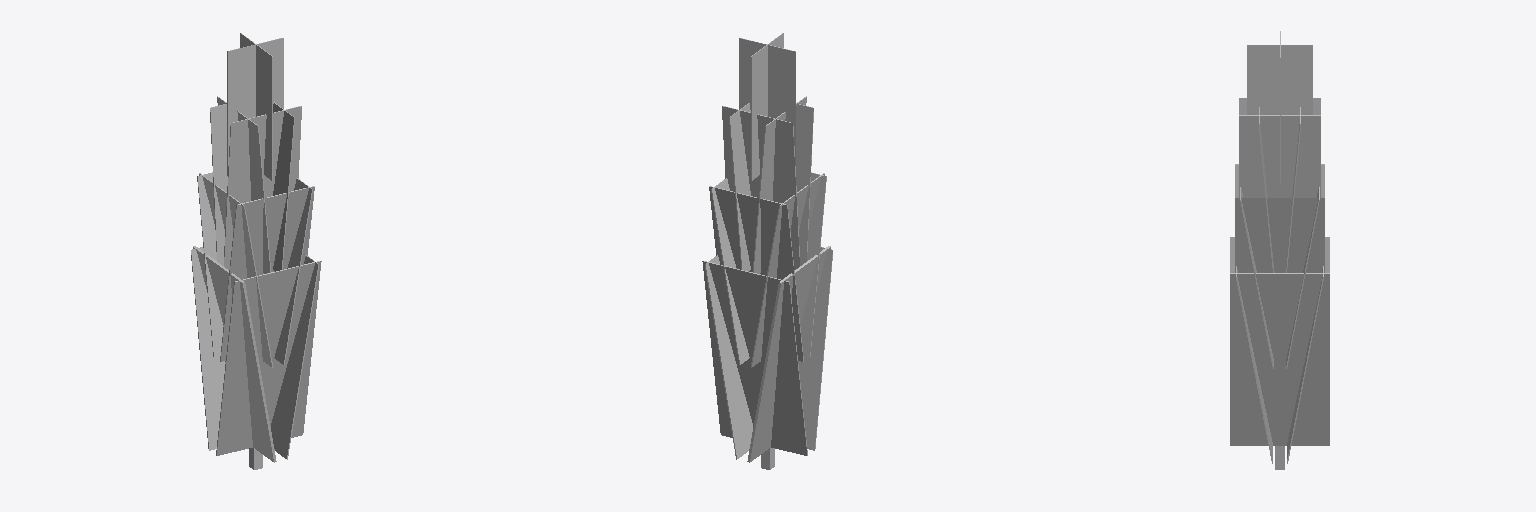
Rendered from cypress_small.obj.
The picture shows the model from 3 angles: view 1: azimuth 30°, elevation 25°; view 2: azimuth 150°, elevation 25°; view 3: azimuth 270°, elevation 25°; orthographic projection.
Parts seen in each view (by area): view 1: Leaves.029_Plane.063, Leaves.033_Plane.067, Leaves.037_Plane.071, Leaves.030_Plane.064, Leaves.040_Plane.074, Leaves.028_Plane.062, Leaves.031_Plane.065, Leaves.036_Plane.070, Leaves.032_Plane.066, Leaves.041_Plane.075, Leaves.034_Plane.068, Leaves.039_Plane.073 (+2 smaller); view 2: Leaves.028_Plane.062, Leaves.032_Plane.066, Leaves.036_Plane.070, Leaves.030_Plane.064, Leaves.040_Plane.074, Leaves.029_Plane.063, Leaves.031_Plane.065, Leaves.037_Plane.071, Leaves.033_Plane.067, Leaves.041_Plane.075, Leaves.034_Plane.068, Leaves.039_Plane.073 (+2 smaller); view 3: Leaves.031_Plane.065, Leaves.039_Plane.073, Leaves.035_Plane.069, Leaves.041_Plane.075, Leaves.028_Plane.062, Leaves.029_Plane.063.
Part boxes in pixels (left/top/right/bottom): Leaves.029_Plane.063: left=216, top=261, right=321, bottom=455; Leaves.033_Plane.067: left=220, top=186, right=314, bottom=361; Leaves.037_Plane.071: left=224, top=106, right=301, bottom=269; Leaves.030_Plane.064: left=193, top=246, right=276, bottom=462; Leaves.040_Plane.074: left=227, top=38, right=283, bottom=175; Leaves.028_Plane.062: left=191, top=247, right=225, bottom=450; Leaves.031_Plane.065: left=271, top=255, right=318, bottom=459; Leaves.036_Plane.070: left=210, top=104, right=227, bottom=265; Leaves.032_Plane.066: left=197, top=172, right=223, bottom=356; Leaves.041_Plane.075: left=240, top=33, right=272, bottom=180; Leaves.034_Plane.068: left=199, top=173, right=272, bottom=367; Leaves.039_Plane.073: left=273, top=102, right=294, bottom=271; Leaves.028_Plane.062: left=702, top=261, right=807, bottom=455; Leaves.032_Plane.066: left=709, top=186, right=803, bottom=361; Leaves.036_Plane.070: left=722, top=106, right=799, bottom=269; Leaves.030_Plane.064: left=747, top=246, right=830, bottom=462; Leaves.040_Plane.074: left=739, top=38, right=795, bottom=165; Leaves.029_Plane.063: left=798, top=247, right=832, bottom=450; Leaves.031_Plane.065: left=705, top=255, right=752, bottom=459; Leaves.037_Plane.071: left=796, top=104, right=813, bottom=265; Leaves.033_Plane.067: left=800, top=172, right=826, bottom=356; Leaves.041_Plane.075: left=751, top=33, right=783, bottom=180; Leaves.034_Plane.068: left=751, top=173, right=824, bottom=367; Leaves.039_Plane.073: left=729, top=103, right=750, bottom=271; Leaves.031_Plane.065: left=1230, top=273, right=1329, bottom=445; Leaves.039_Plane.073: left=1239, top=115, right=1320, bottom=197; Leaves.035_Plane.069: left=1235, top=198, right=1324, bottom=272; Leaves.041_Plane.075: left=1247, top=45, right=1312, bottom=114; Leaves.028_Plane.062: left=1287, top=266, right=1323, bottom=463; Leaves.029_Plane.063: left=1236, top=266, right=1272, bottom=463.
Bounding box in the file's own units: 0.5808 × 2.7 × 0.5808.